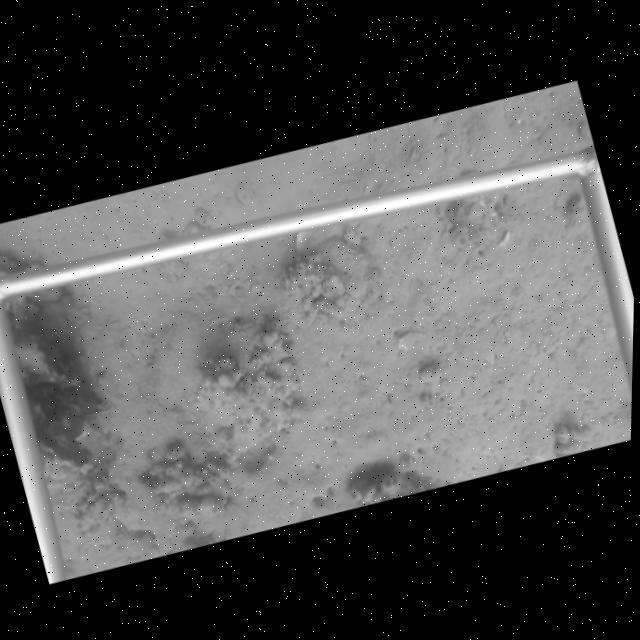Oyster-Closed: (293, 229, 312, 253)
Oyster-Indeterminate: (308, 234, 375, 301)
